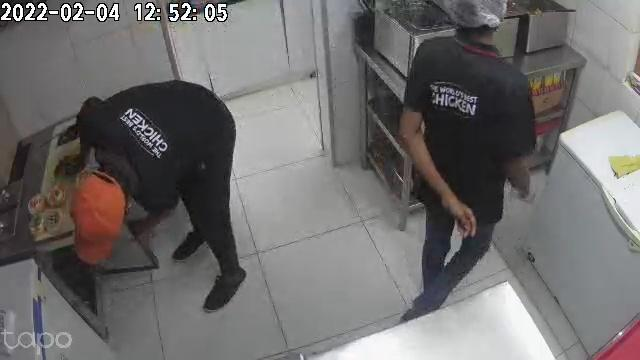no_gloves: (437, 179, 476, 237)
